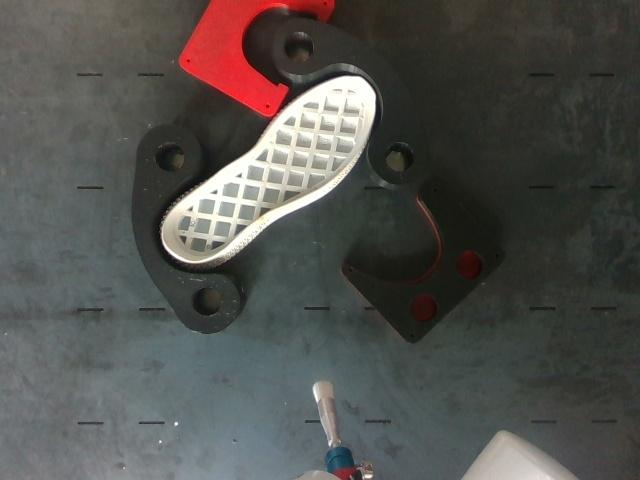shoes: (163, 77, 374, 262)
